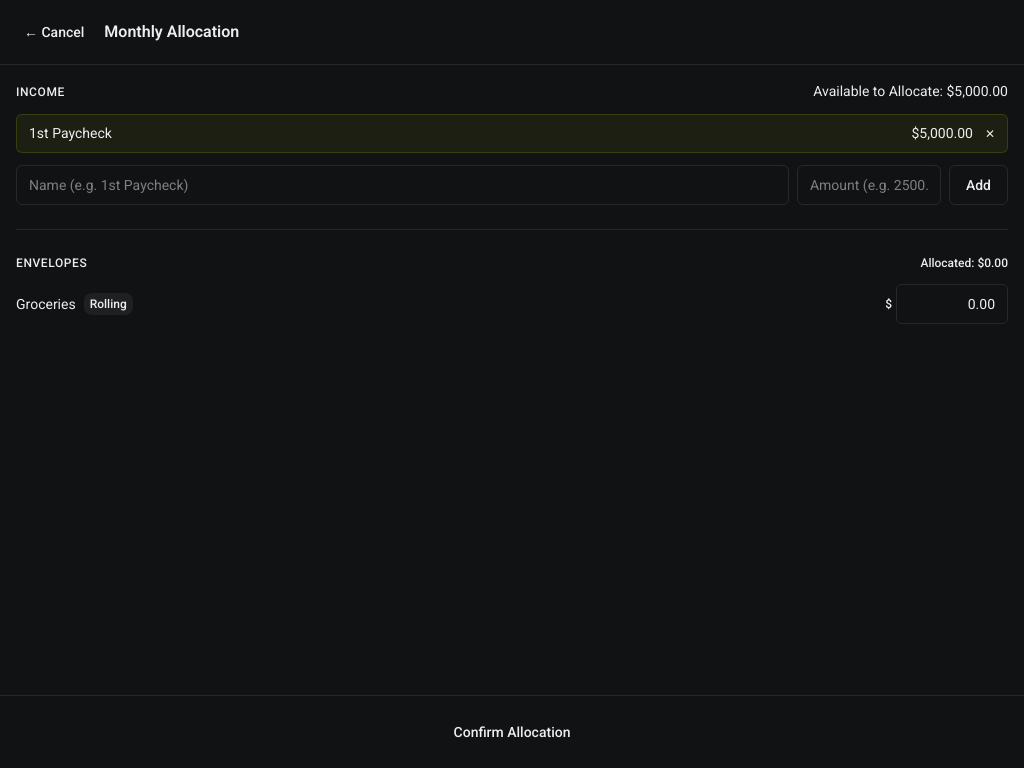
Scenario: AllocationPage › shows inline error message when allocation command fails
The width and height of the screenshot is (1024, 768).
Click the button with test id "confirm-allocation-button" at (512,732), box [16,712,1008,752]
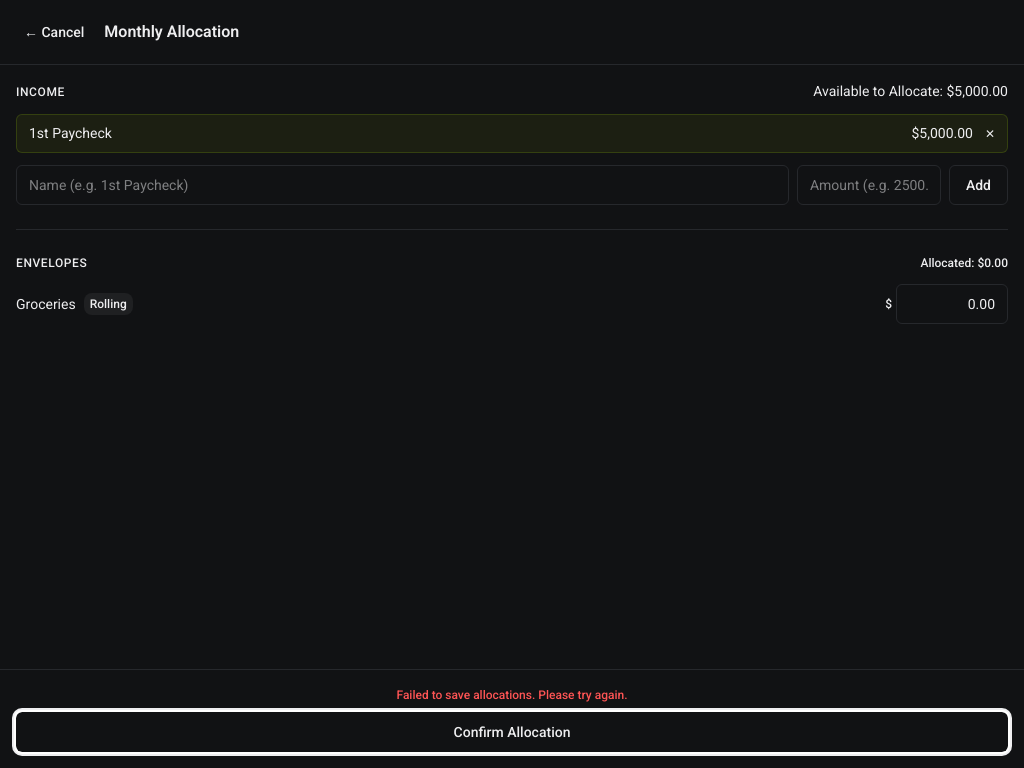
Now the text "Failed to save allocations. Please try again." is shown, box [396,688,628,702]
